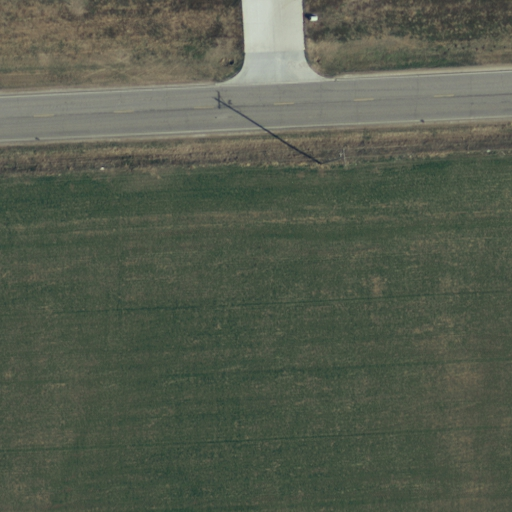DT: (316, 140, 354, 178)
